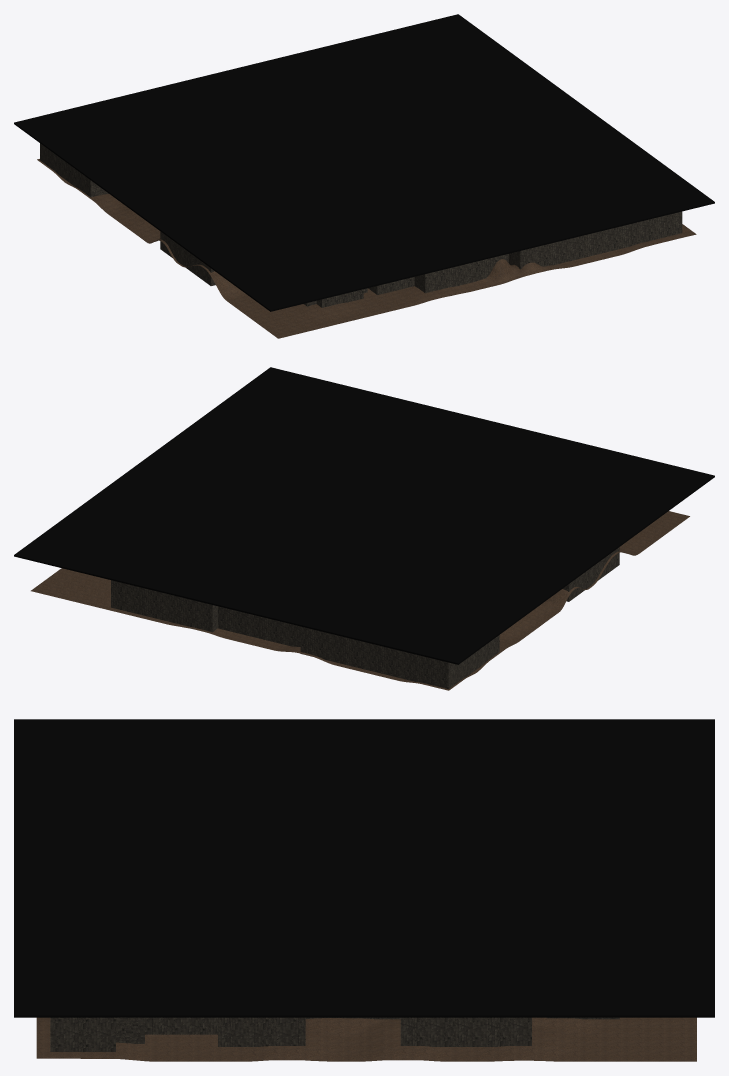
File: MapBlenderFile.fbx
The picture shows the model from 3 angles, top to bottom: view 1: azimuth 30°, elevation 25°; view 2: azimuth 150°, elevation 25°; view 3: azimuth 270°, elevation 25°; orthographic projection. The views are drawn at different scales.
Visible parts, largest first — view 1: Ceiling, Dirt, Walls; view 2: Ceiling, Walls, Dirt; view 3: Ceiling, Dirt, Walls.
Part boxes in pixels (x1,y1,x2,y2): Ceiling: (14,14,714,311); Dirt: (37,159,696,338); Walls: (40,143,682,307); Ceiling: (14,367,714,664); Walls: (111,547,619,689); Dirt: (31,511,689,690); Ceiling: (14,719,714,1017); Dirt: (36,1017,696,1061); Walls: (50,1017,619,1051).
Size of the model in its own units: 7583 by 628 by 7583.
